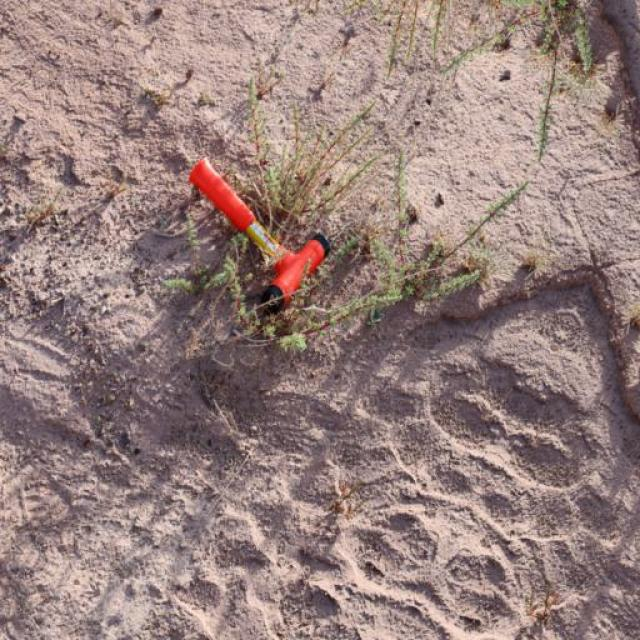mallet: (186, 155, 330, 316)
